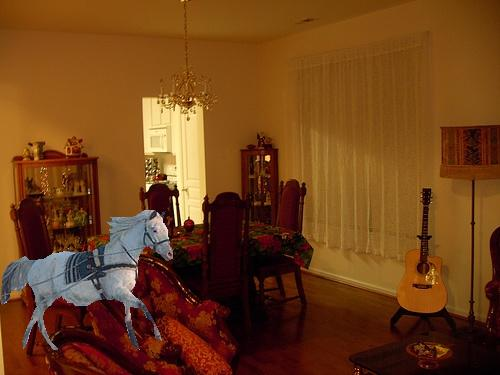tampered: (2, 211, 173, 350)
